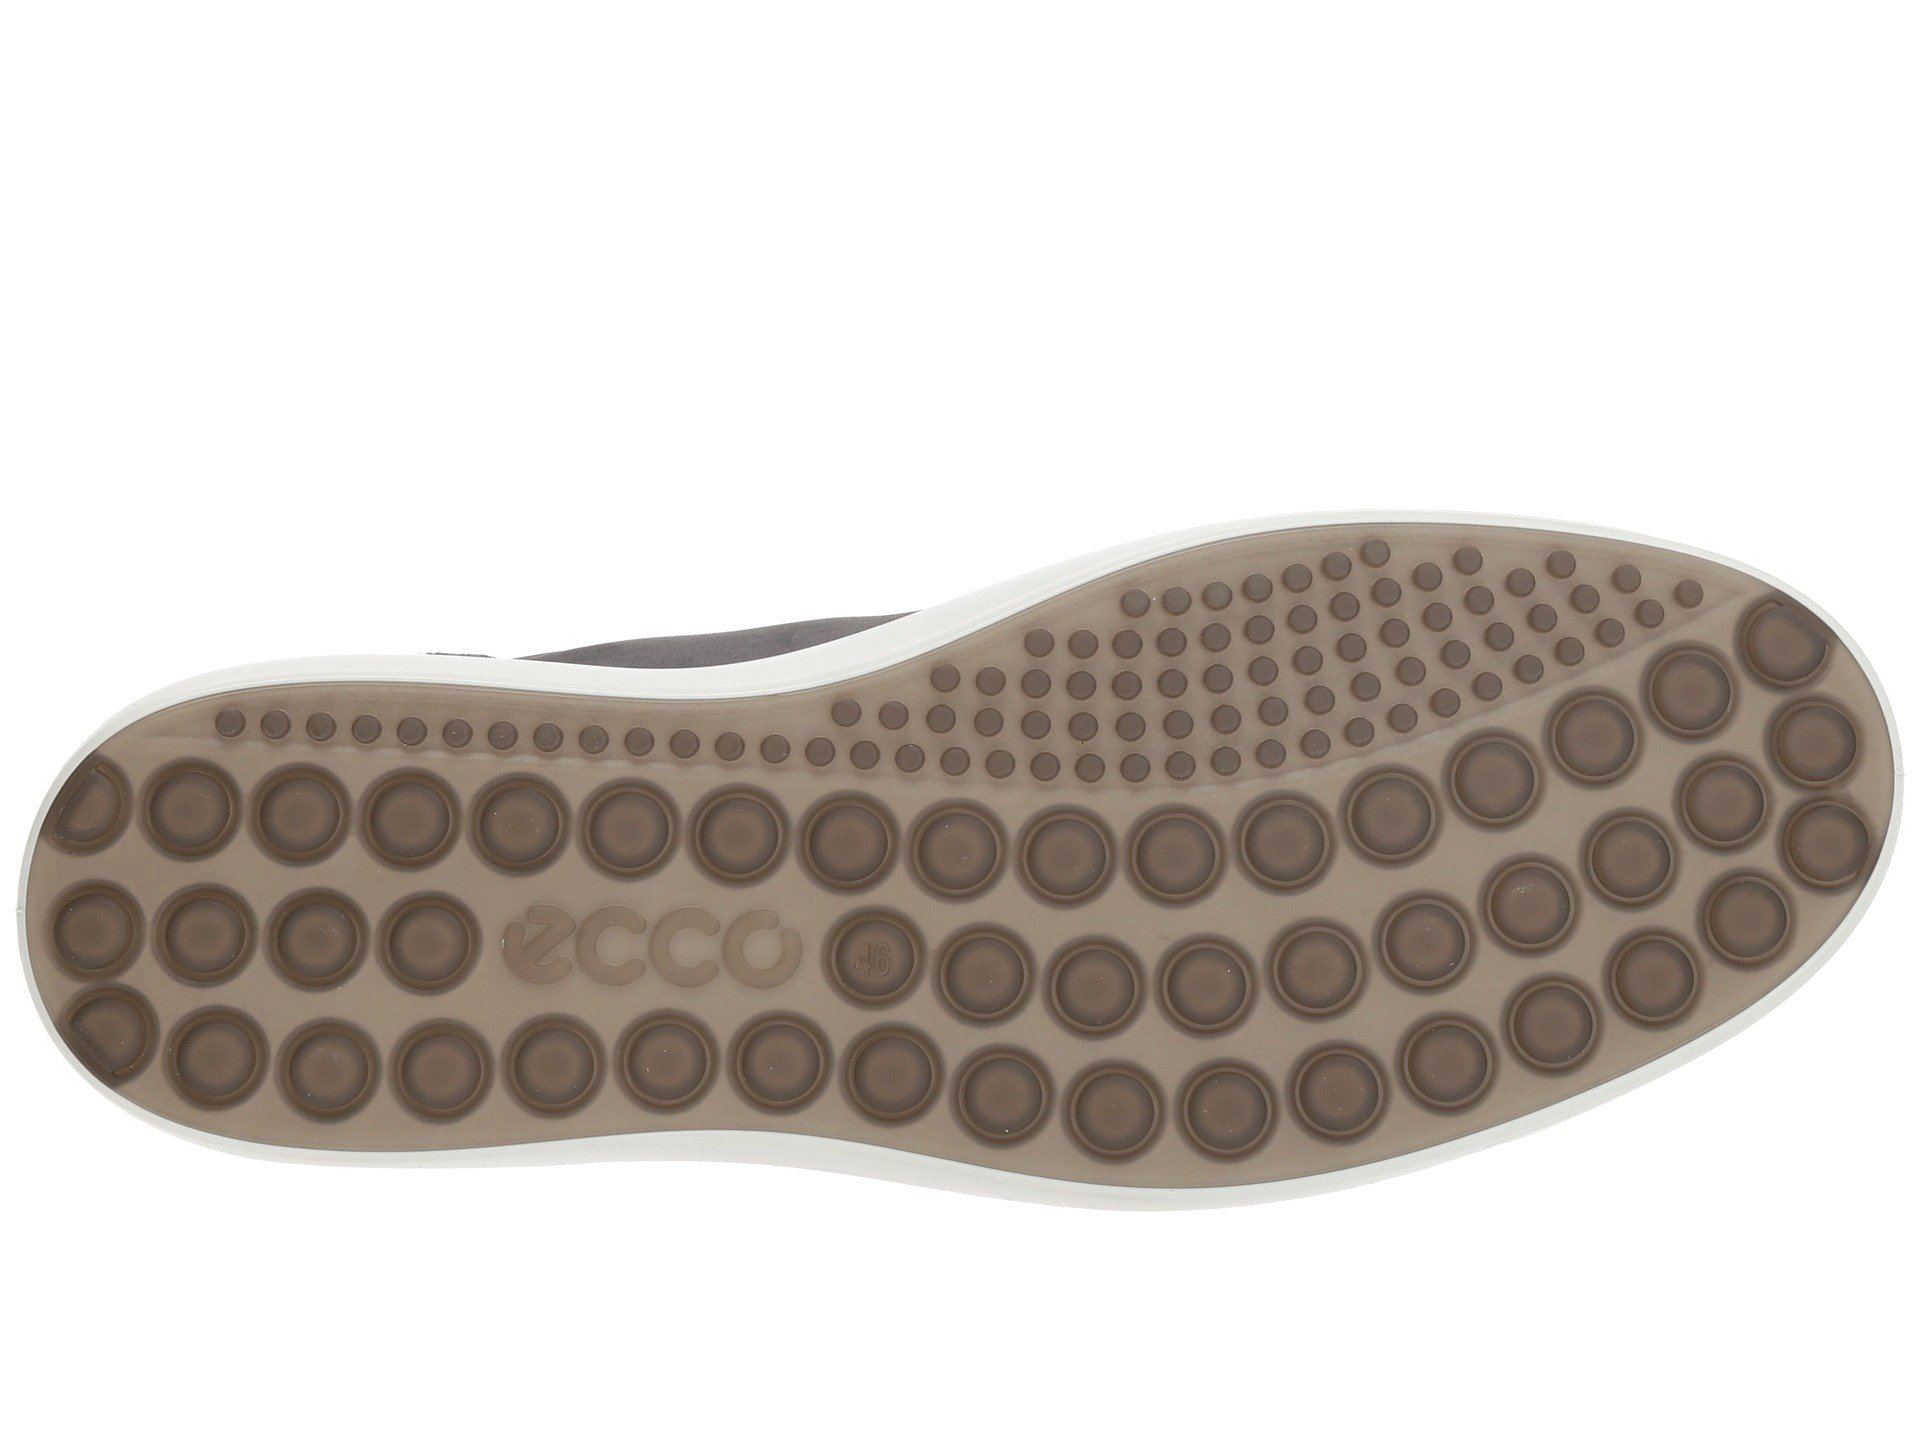circle: (1085, 631, 1568, 1097), (378, 741, 875, 1104)
text: (378, 741, 875, 1104)
